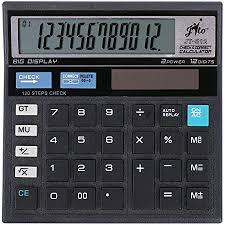Calculator: (0, 0, 225, 223)
